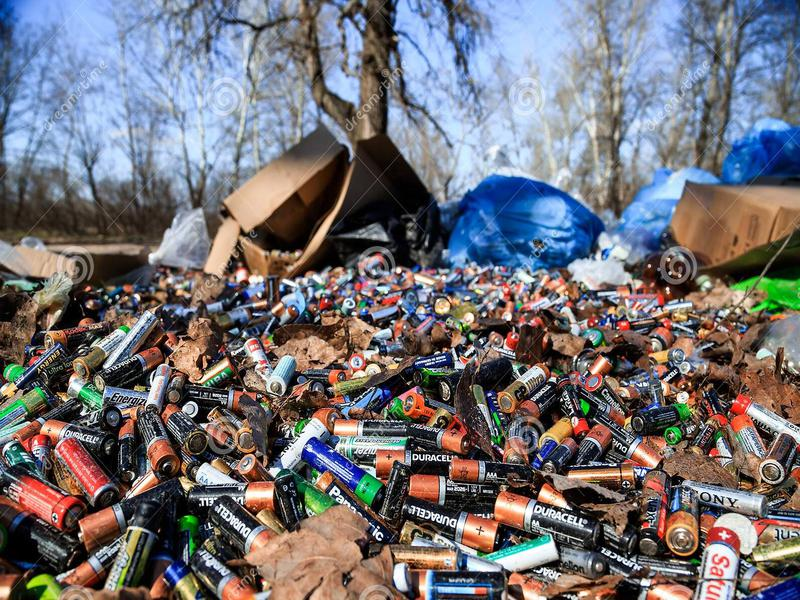battery: (489, 489, 606, 548), (395, 493, 505, 555), (301, 435, 389, 509), (52, 436, 123, 511), (93, 344, 167, 391), (493, 358, 552, 415), (441, 453, 532, 486), (752, 430, 800, 486), (631, 401, 693, 439), (262, 348, 300, 398)
